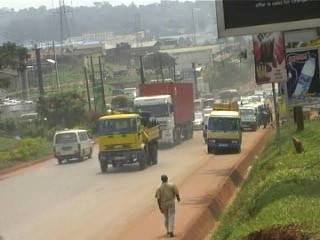Car: (191, 111, 203, 130), (200, 108, 213, 121)
